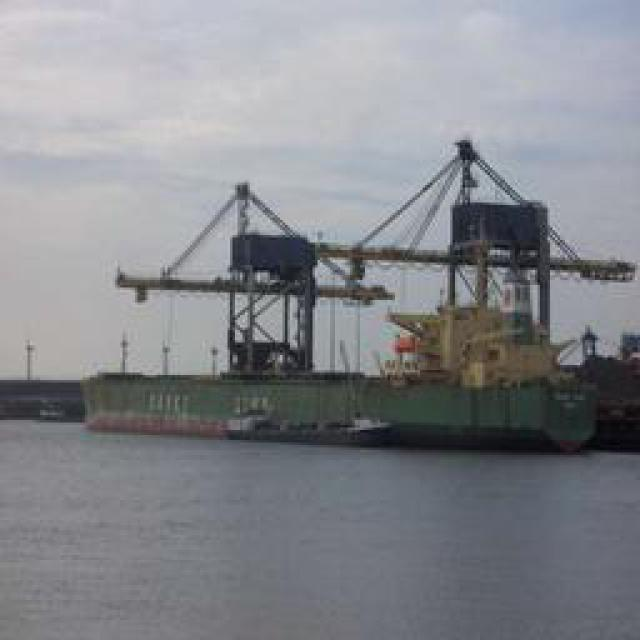Ship: (81, 139, 631, 439)
